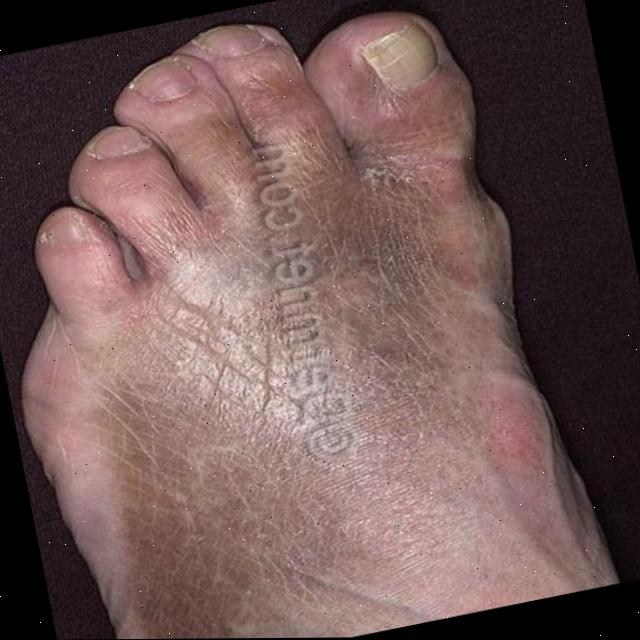Eczema: (19, 53, 551, 640)
